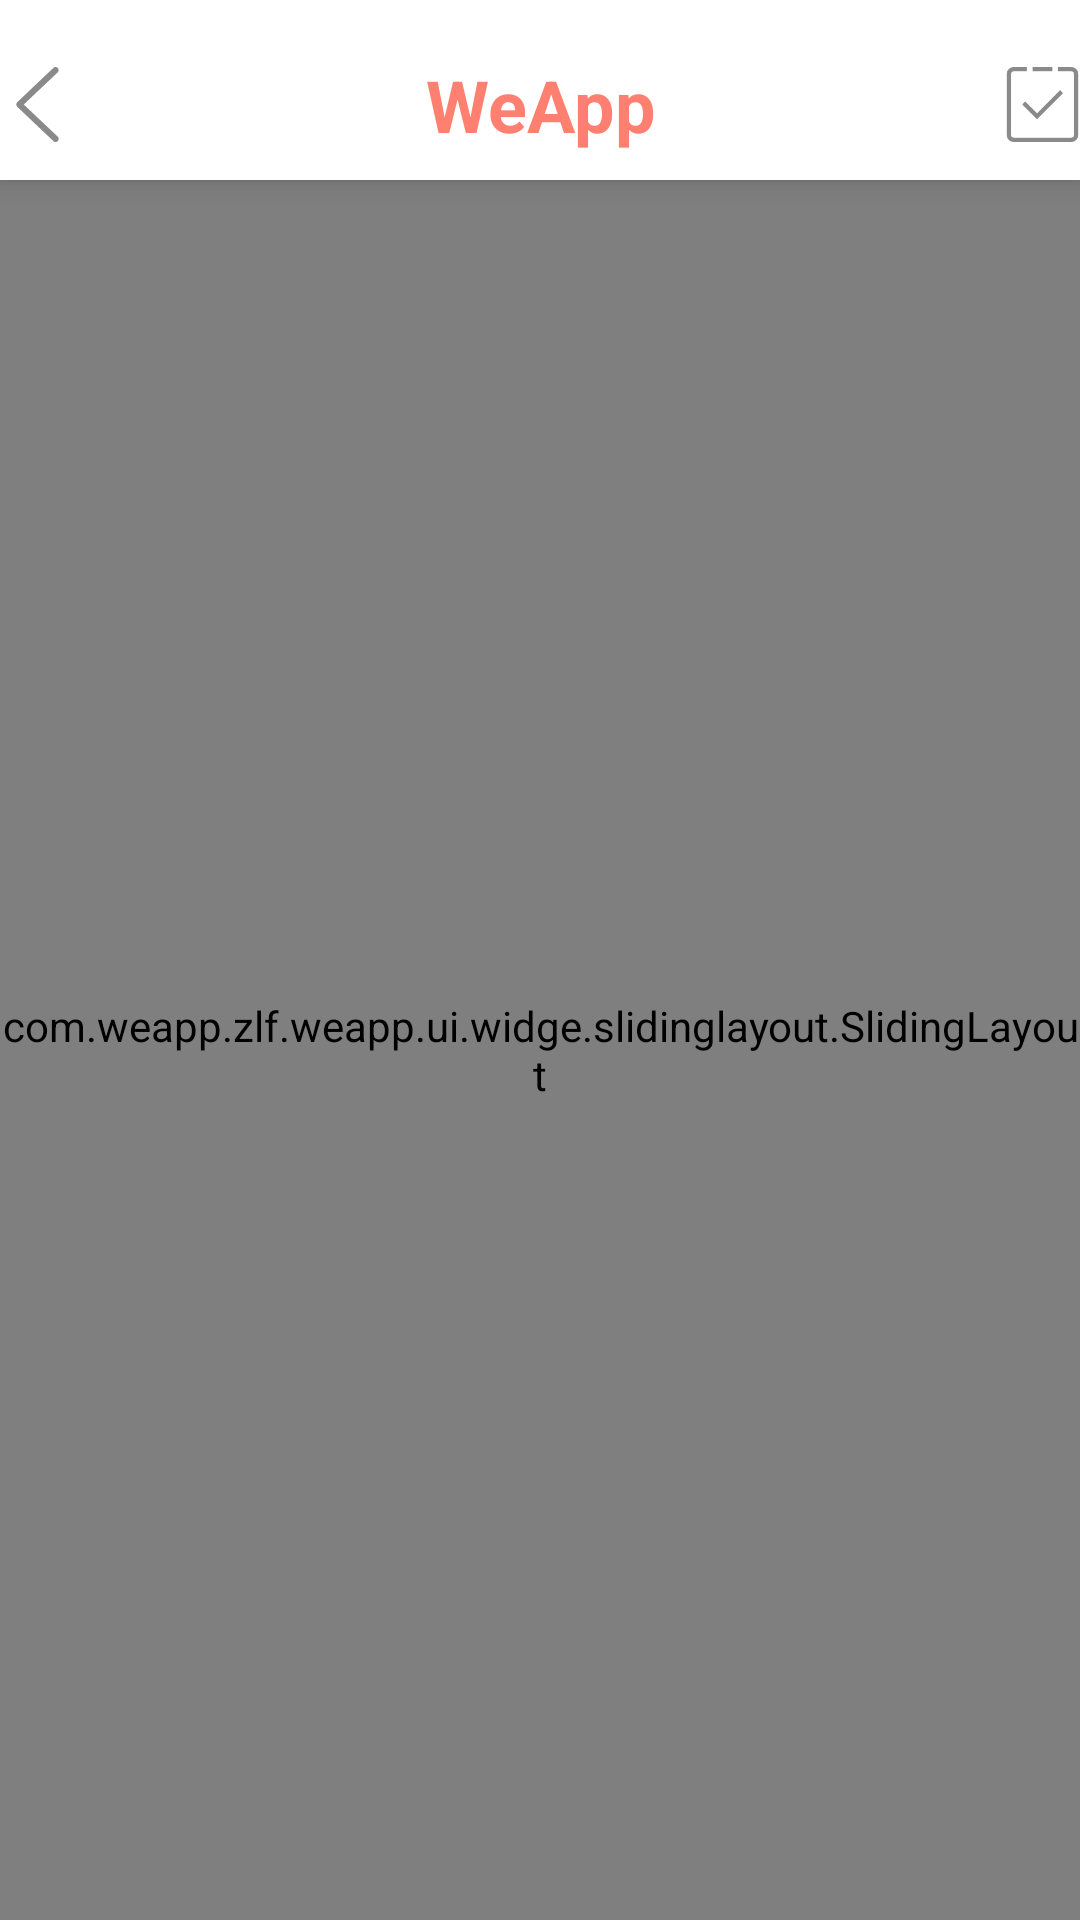

Screen size 1080x1920. Icon name, then its box in pixels as bbox=(x1, y1, x2, y2):
arrow: bbox=(16, 67, 59, 142)
submit: bbox=(1007, 67, 1078, 142)
